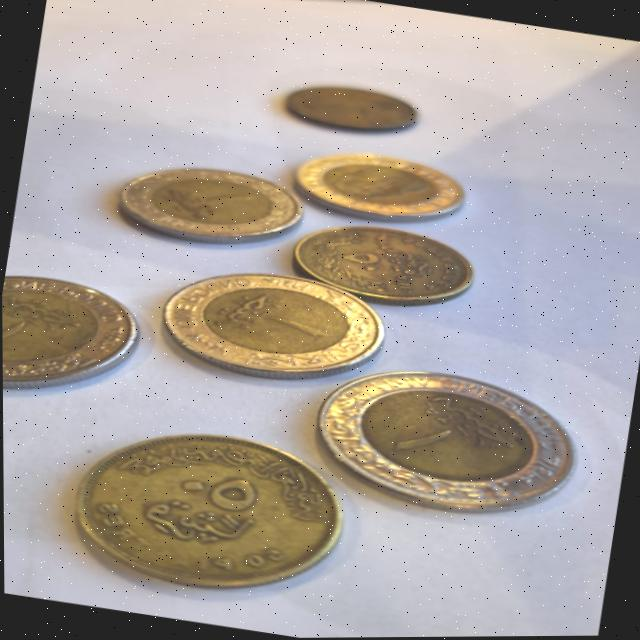Half Pound: (49, 409, 359, 612), (283, 210, 490, 317), (275, 74, 422, 144)
One Pound: (304, 349, 594, 527), (146, 255, 380, 389), (2, 258, 150, 400), (107, 150, 300, 251), (291, 142, 466, 230)
